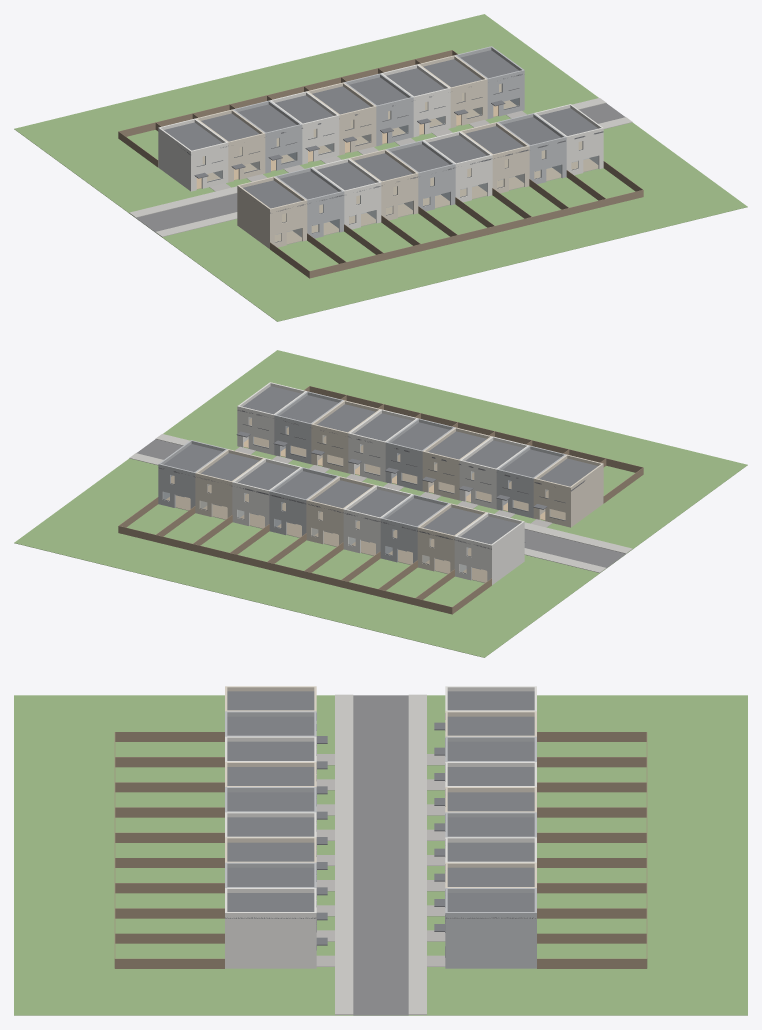
File: rady18.glb
3 views of the same model, one above another, from view 1: azimuth 30°, elevation 25°; view 2: azimuth 150°, elevation 25°; view 3: azimuth 270°, elevation 25° (orthographic). The views are drawn at different scales.
Parts seen in each view (by area): view 1: teren, ploty, dom1_walls0, dom10_walls1, cesta, chodniky, dom7_walls0, dom8_walls1, dom6_walls2, dom9_walls2, dom2_walls1, dom3_walls2 (+29 smaller); view 2: teren, ploty, dom10_walls1, dom1_walls0, cesta, chodniky, dom16_walls1, dom11_walls2, dom12_walls0, dom17_walls2, dom15_walls0, dom14_walls2 (+29 smaller); view 3: teren, ploty, cesta, chodniky, dom18_walls0, dom9_walls2, vjazdy, dom18_roof, dom9_roof, dom11_roof, dom12_roof, dom16_roof (+29 smaller).
Part boxes in pixels (left/top/right/bottom): teren: left=14, top=14, right=747, bottom=321; ploty: left=118, top=50, right=643, bottom=278; dom1_walls0: left=158, top=118, right=228, bottom=191; dom10_walls1: left=237, top=176, right=307, bottom=248; cesta: left=136, top=103, right=625, bottom=232; chodniky: left=129, top=98, right=632, bottom=236; dom7_walls0: left=381, top=64, right=450, bottom=137; dom8_walls1: left=418, top=55, right=487, bottom=127; dom6_walls2: left=344, top=73, right=413, bottom=146; dom9_walls2: left=455, top=46, right=524, bottom=118; dom2_walls1: left=195, top=109, right=265, bottom=182; dom3_walls2: left=232, top=100, right=302, bottom=173; teren: left=14, top=350, right=747, bottom=657; ploty: left=118, top=386, right=643, bottom=614; dom10_walls1: left=533, top=454, right=603, bottom=527; dom1_walls0: left=454, top=512, right=524, bottom=584; cesta: left=136, top=439, right=625, bottom=568; chodniky: left=129, top=434, right=632, bottom=572; dom16_walls1: left=311, top=400, right=380, bottom=473; dom11_walls2: left=496, top=445, right=566, bottom=518; dom12_walls0: left=459, top=436, right=529, bottom=509; dom17_walls2: left=274, top=391, right=343, bottom=463; dom15_walls0: left=348, top=409, right=417, bottom=482; dom14_walls2: left=385, top=418, right=454, bottom=491; teren: left=14, top=695, right=747, bottom=1015; ploty: left=114, top=732, right=647, bottom=968; cesta: left=353, top=695, right=408, bottom=1015; chodniky: left=335, top=694, right=426, bottom=1014; dom18_walls0: left=225, top=888, right=316, bottom=968; dom9_walls2: left=445, top=888, right=536, bottom=968; vjazdy: left=316, top=754, right=445, bottom=966; dom18_roof: left=225, top=893, right=327, bottom=945; dom9_roof: left=434, top=893, right=535, bottom=931; dom11_roof: left=227, top=716, right=327, bottom=769; dom12_roof: left=227, top=741, right=327, bottom=794; dom16_roof: left=227, top=842, right=327, bottom=895.
Bounding box in the file's own units: 82.5 × 6.75 × 80.
